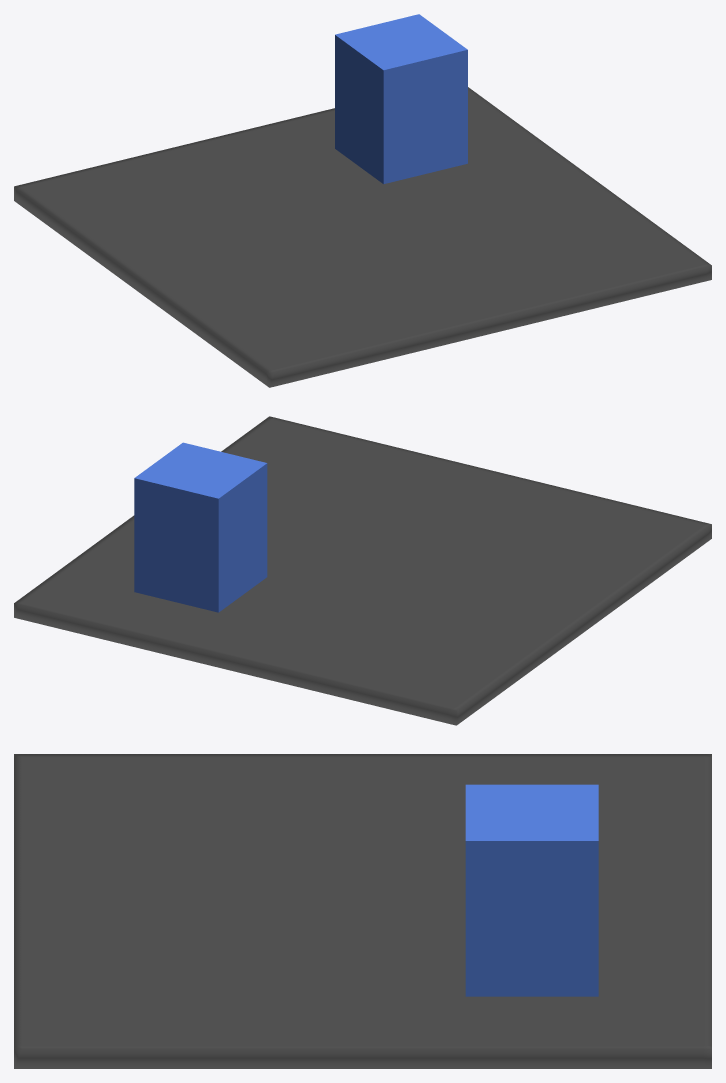
File: sat2lod2_baseline.glb
The picture shows the model from 3 angles, top to bottom: view 1: azimuth 30°, elevation 25°; view 2: azimuth 150°, elevation 25°; view 3: azimuth 270°, elevation 25°; orthographic projection. The views are drawn at different scales.
Bounding box in the file's own units: 64 × 17.75 × 64.
